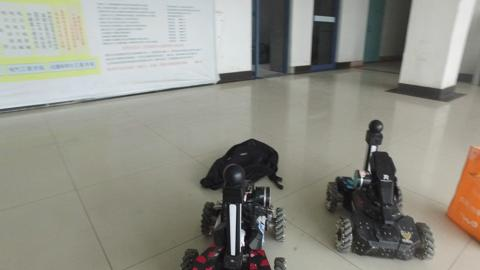chariot: (318, 112, 434, 260), (179, 164, 291, 269)
